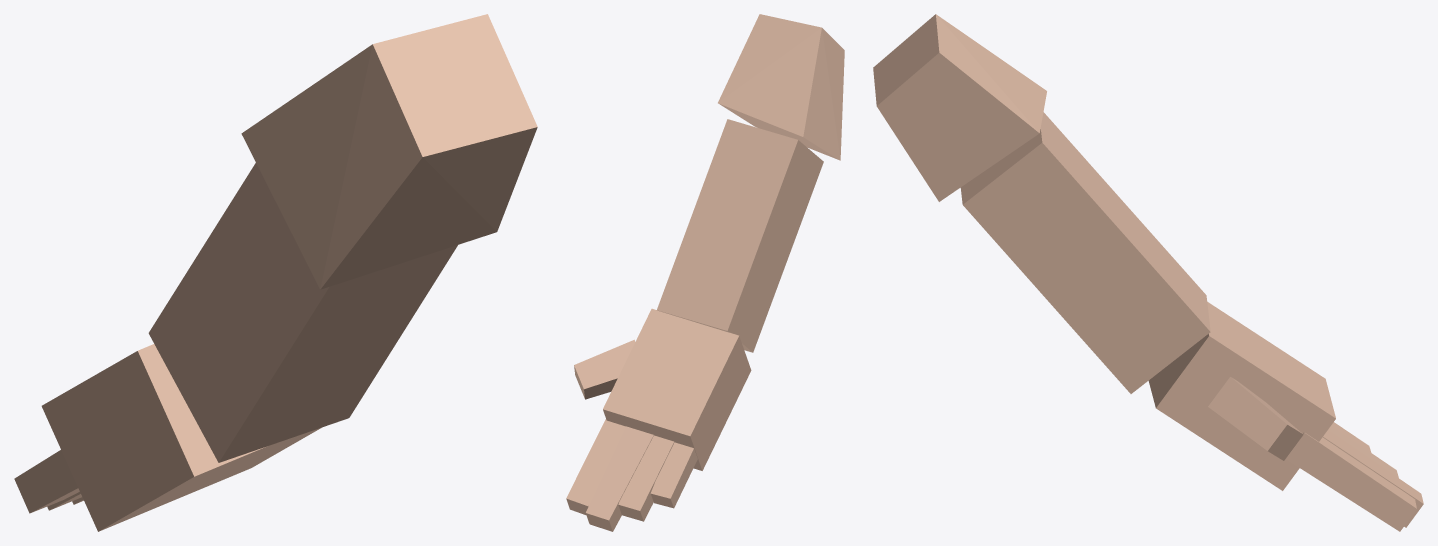
The model's file is playerLeftArm.obj.
The picture shows the model from 3 angles, left to right: view 1: azimuth 30°, elevation 25°; view 2: azimuth 150°, elevation 25°; view 3: azimuth 270°, elevation 25°; orthographic projection. The views are drawn at different scales.
Visible parts, largest first — view 1: Forearm_Block.L; view 2: Forearm_Block.L; view 3: Forearm_Block.L.
Boxes of the visible parts, left/top/right/bottom form: Forearm_Block.L: left=14, top=14, right=537, bottom=531; Forearm_Block.L: left=566, top=14, right=844, bottom=531; Forearm_Block.L: left=873, top=14, right=1423, bottom=531.
Bounding box in the file's own units: 0.2873 × 0.7284 × 0.7473.
